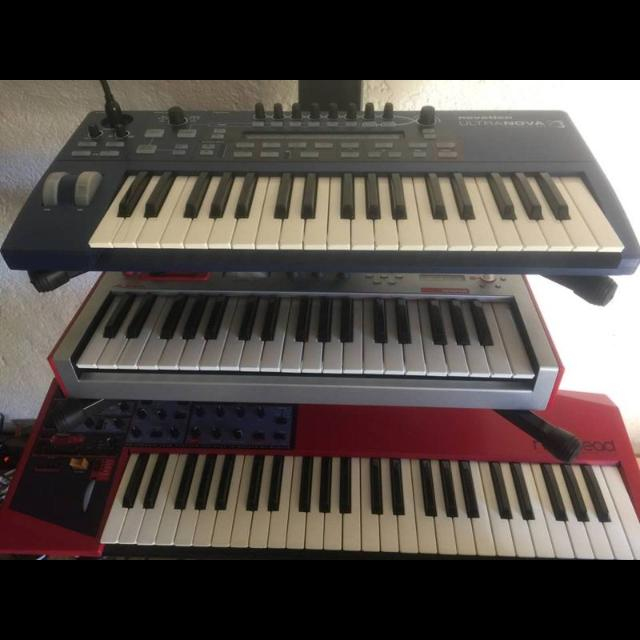Electronic-Keyboard: (12, 103, 634, 255), (23, 410, 623, 546), (56, 276, 548, 388)
